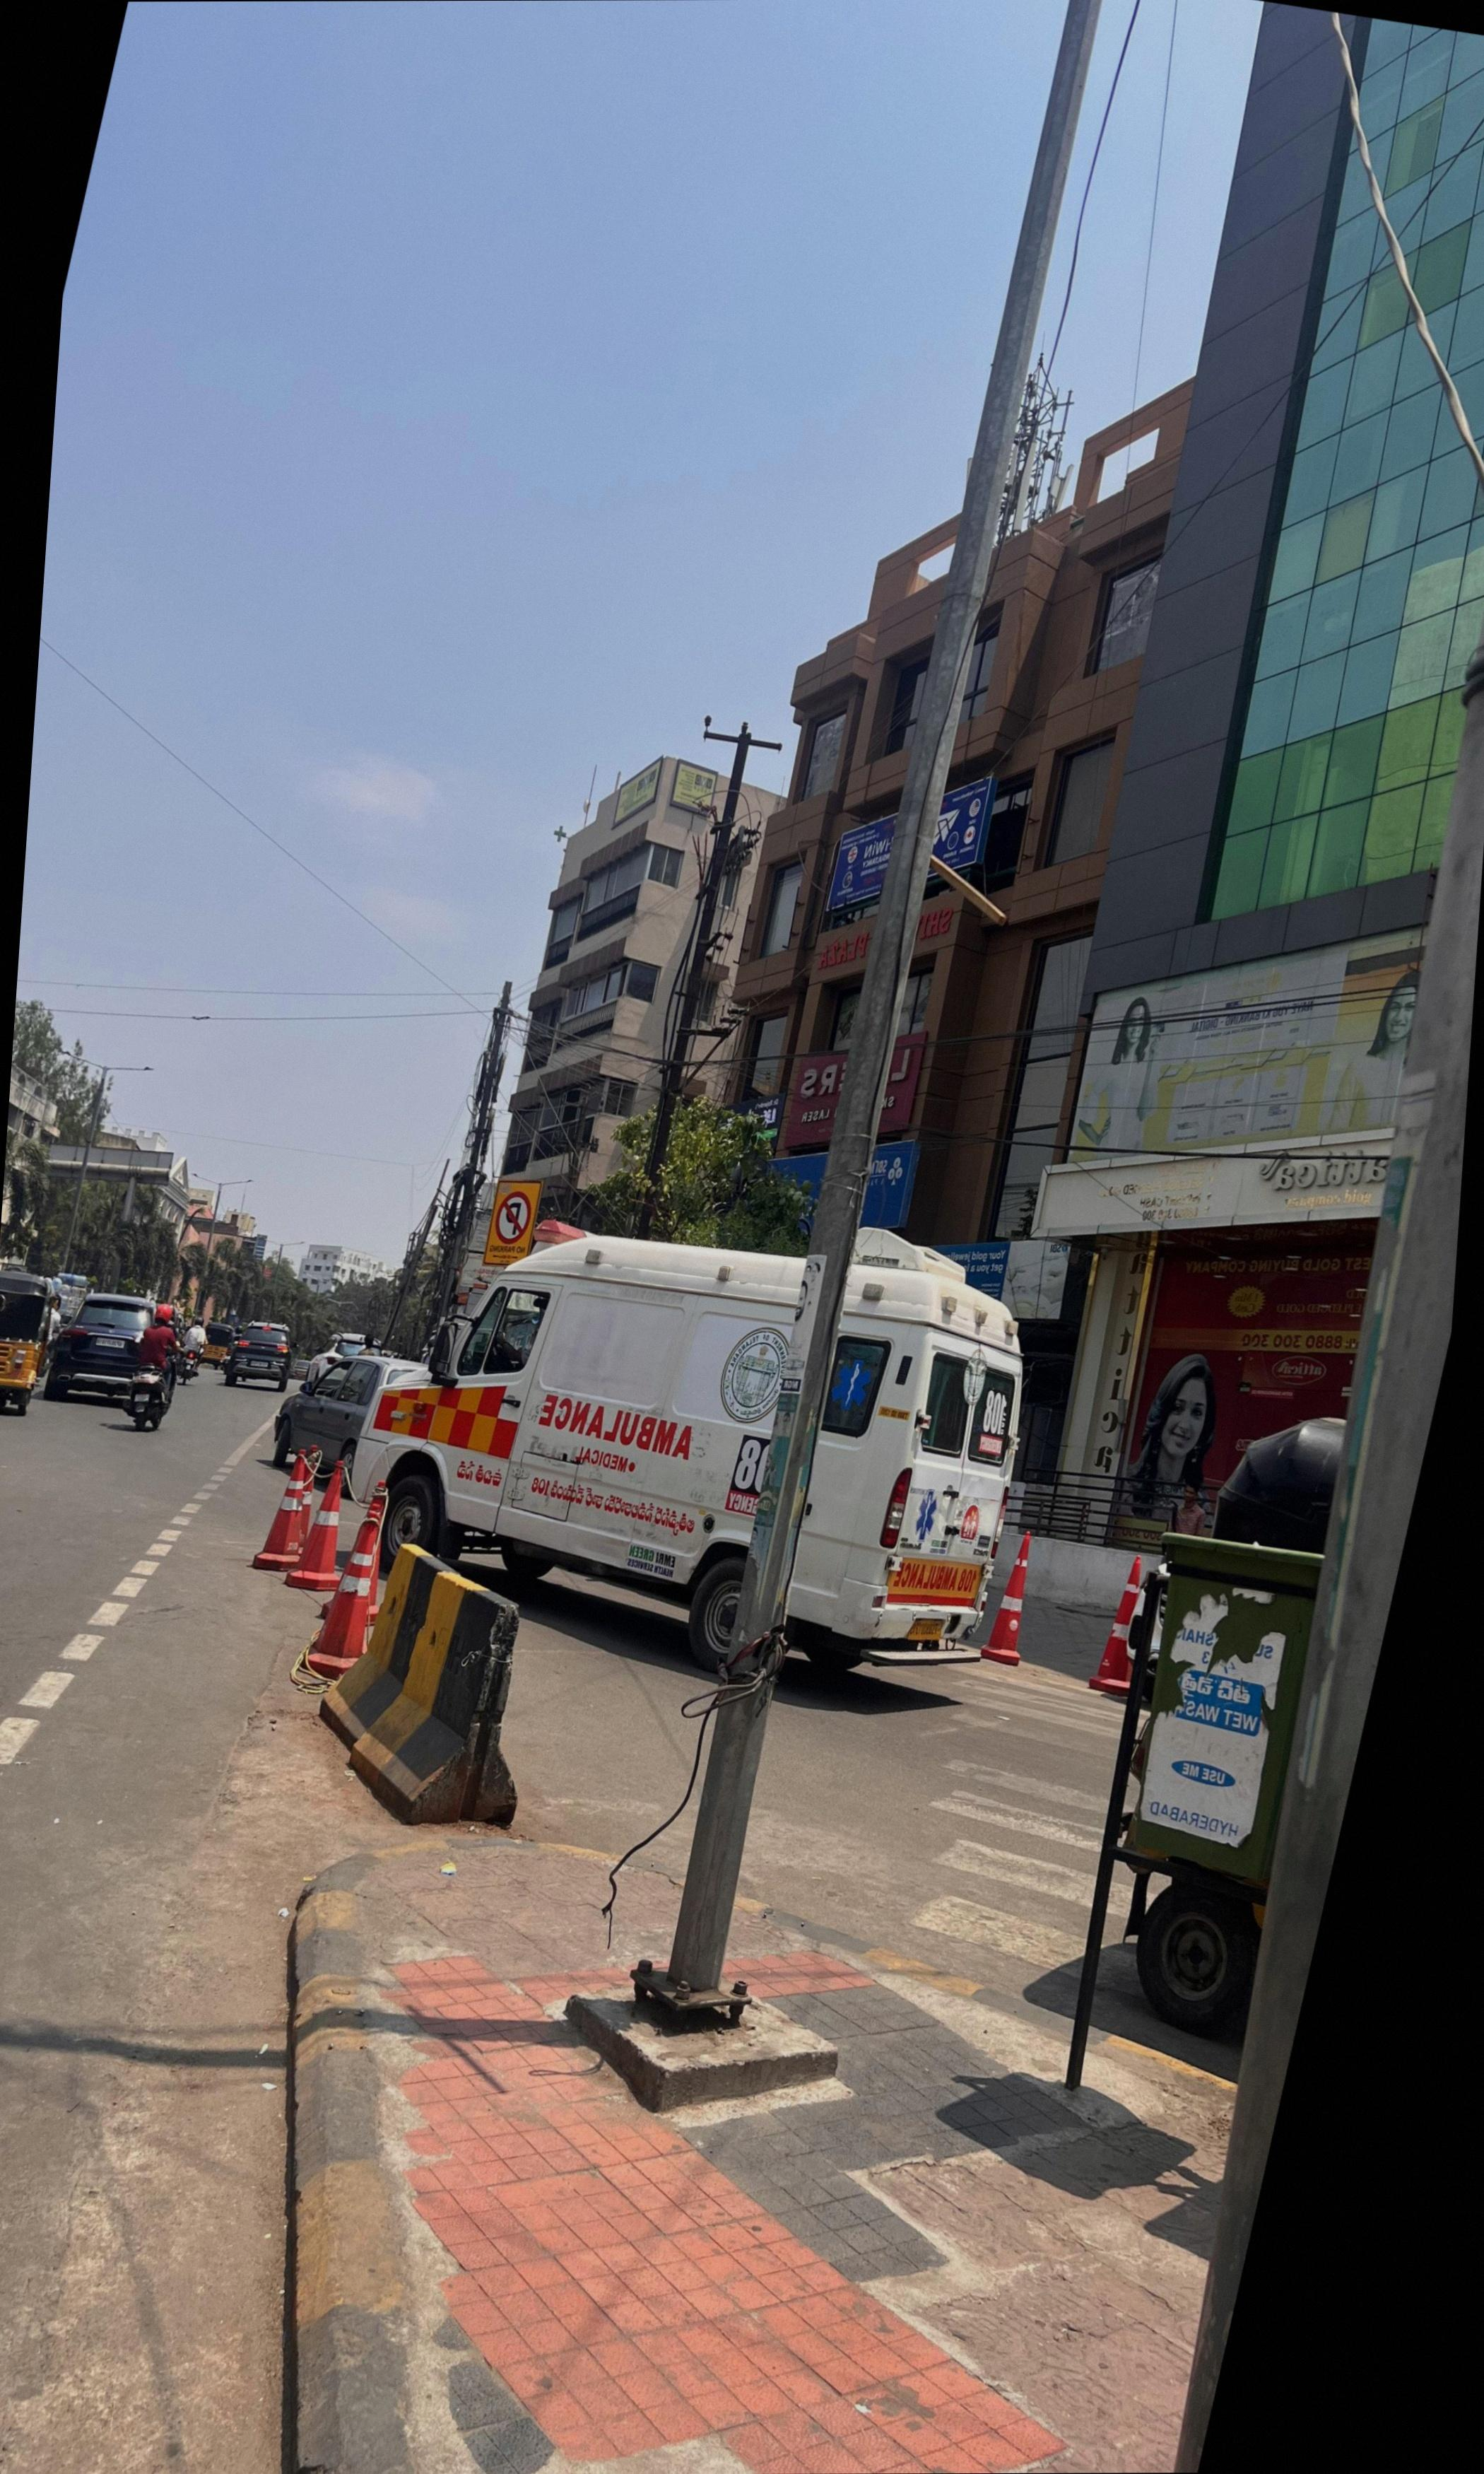ambulance: (348, 1226, 1023, 1670)
